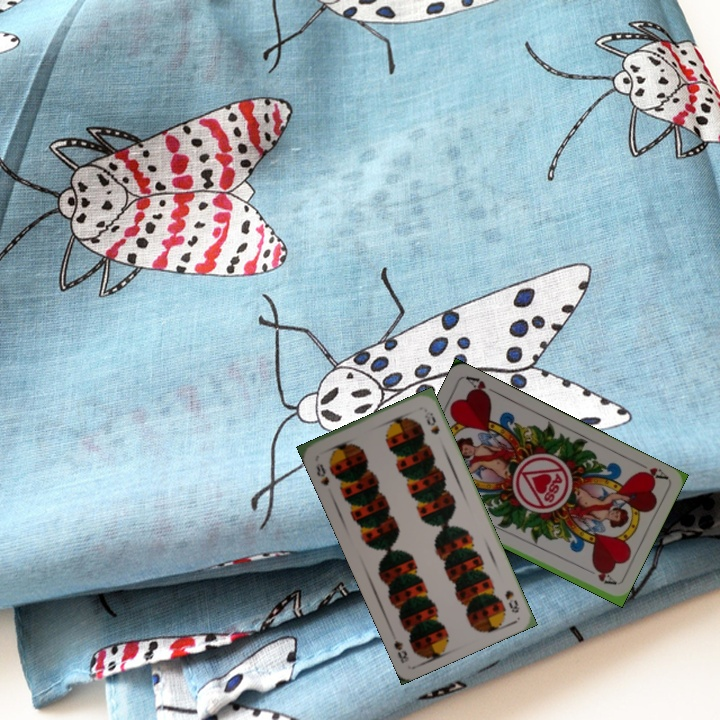HA: (631, 457, 669, 483)
S8: (501, 586, 522, 616), (312, 459, 332, 488)
